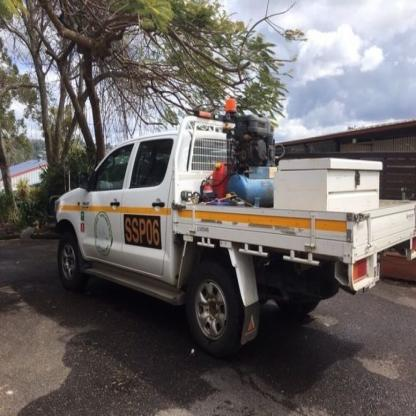light_vehicle: (44, 110, 416, 354)
